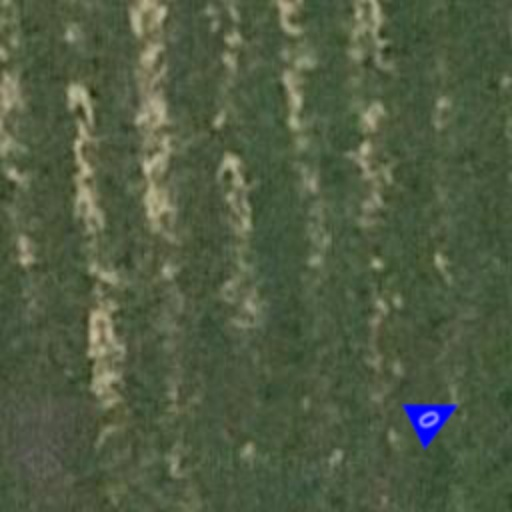triangle: (402, 382, 470, 450)
